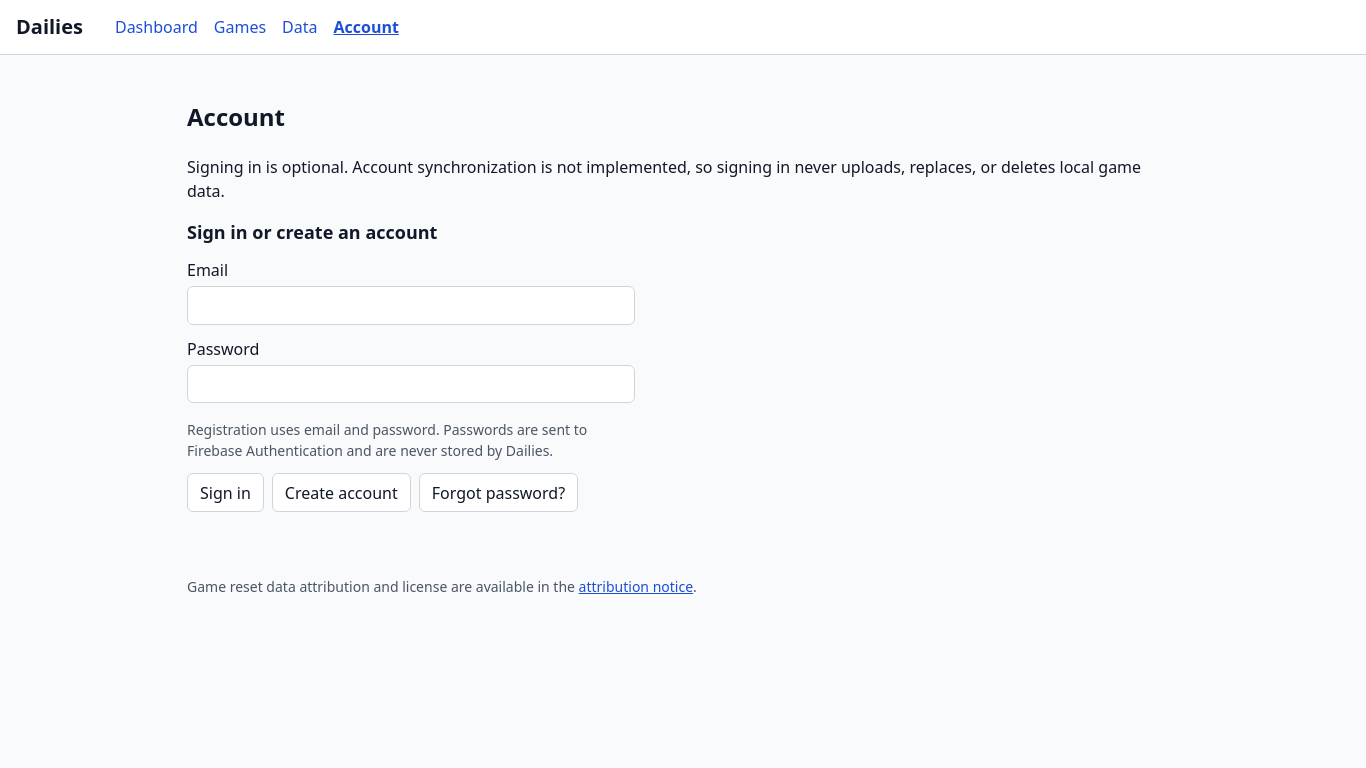
Scenario: account page › surfaces sign-in failures without touching local data
Expected: the heading "Sign in or create an account" is shown, [187,220,437,244]
Type "player@example.com" into the field labelled "Email" at (411, 305), box [187,286,635,325]
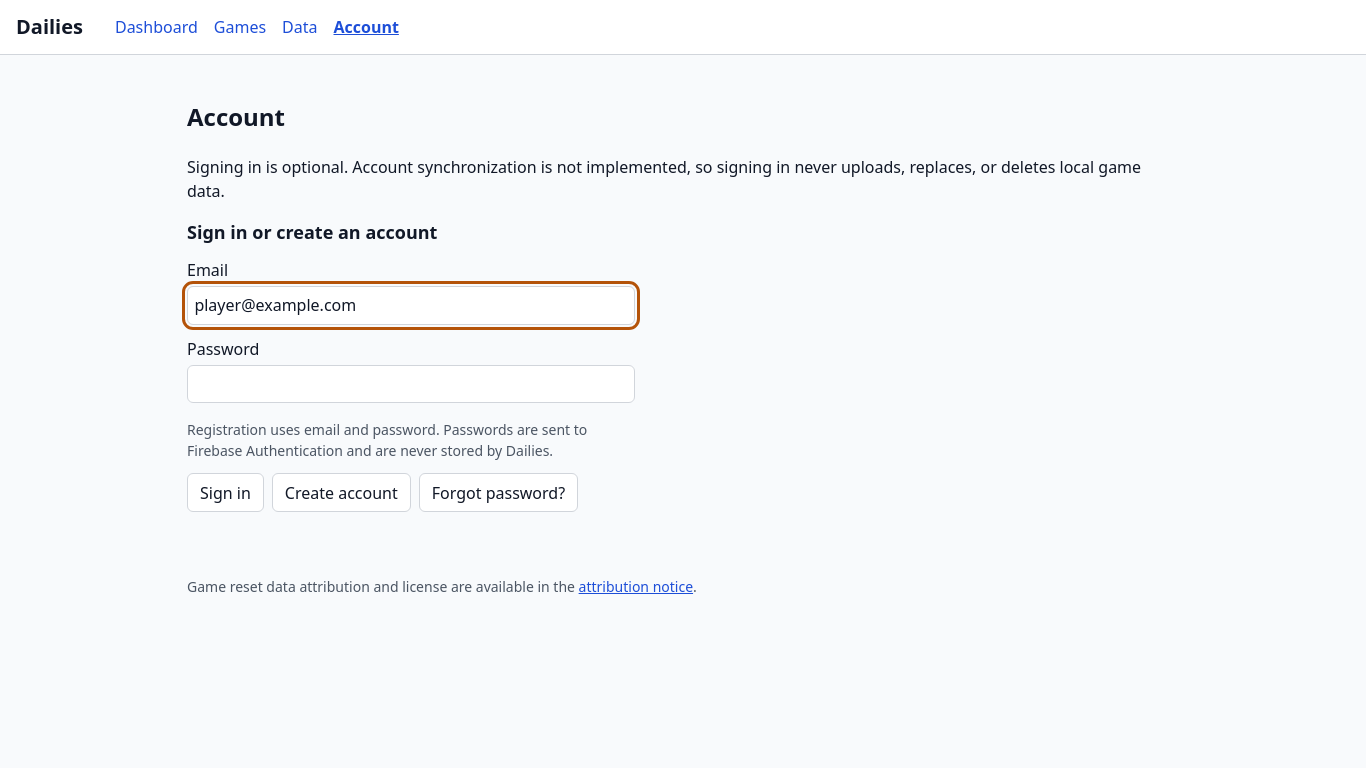
Type "wrong12" into the password field labelled "Password" at (411, 384), box [187,365,635,403]
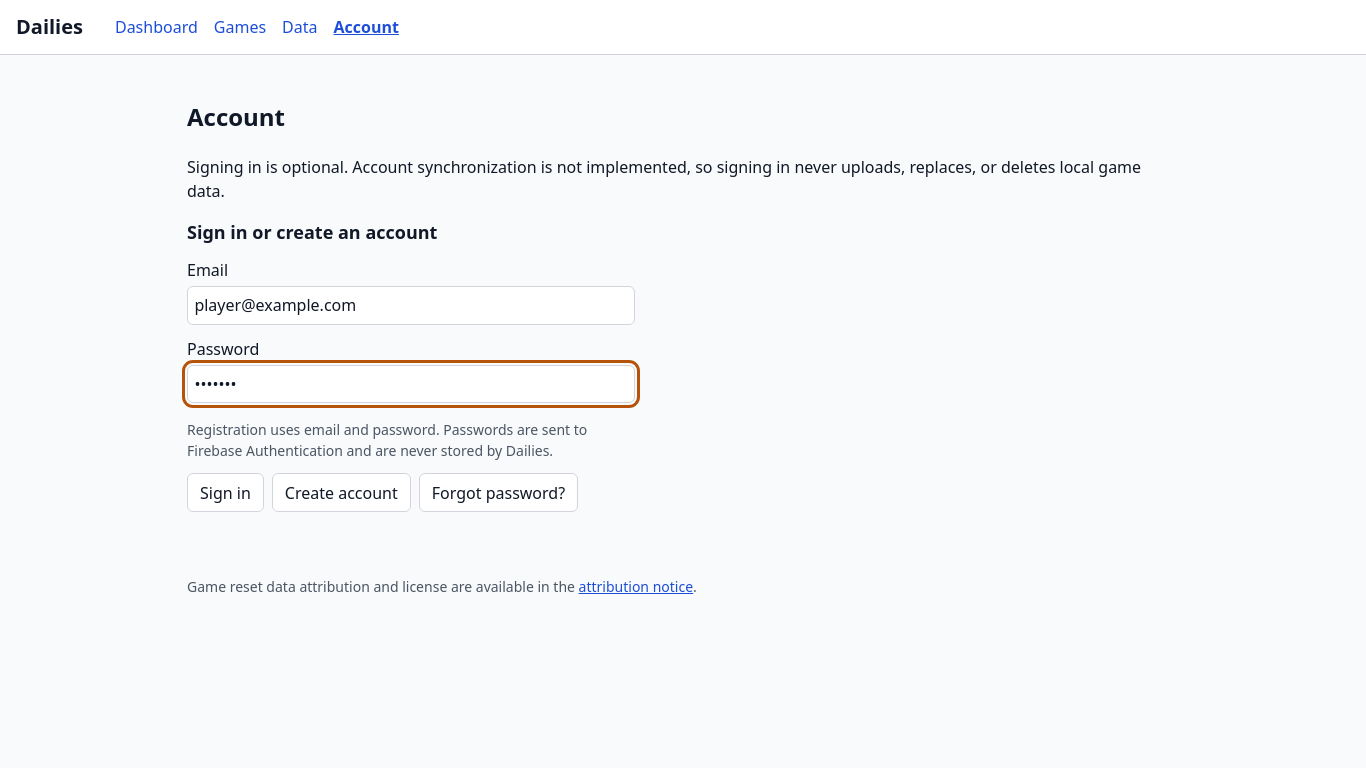
Click the button "Sign in" at (225, 493), box [187,473,264,512]
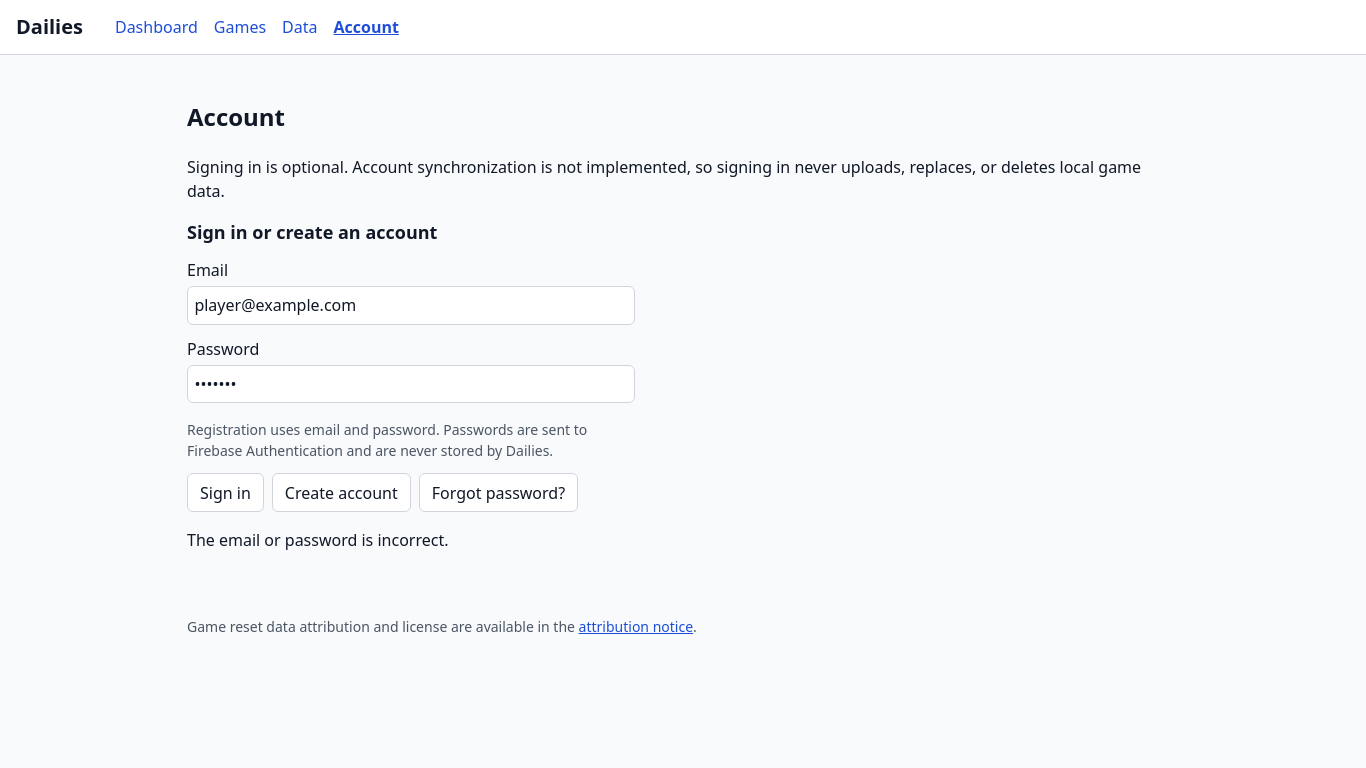
Expected: the message reads "The email or password is incorrect.", [187,529,448,551]
